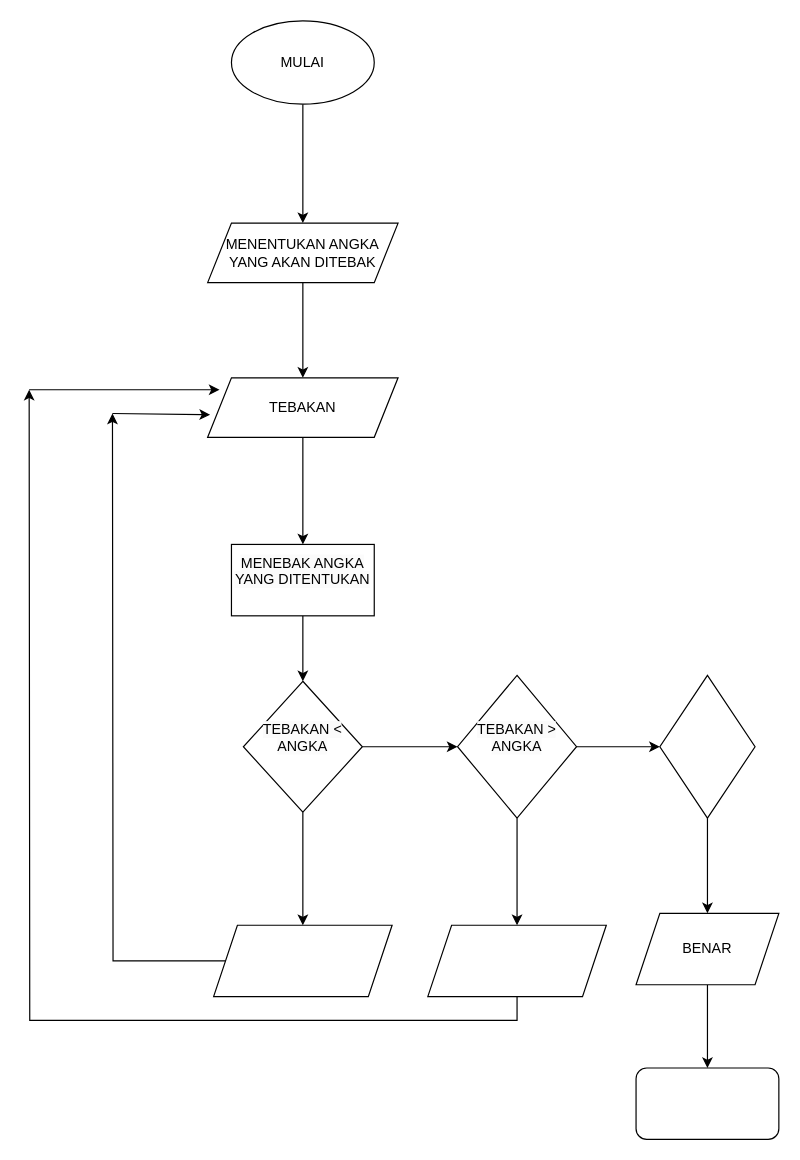
This 800x1160 diagram has some shape labels left out. The shapes that lost their labels are listed below. From the top down, each one's box as (x1, y1, x2, y2) in pixels, then its label:
(659, 674, 755, 818): TEBAKAN BENAR
(212, 924, 392, 997): ANGKA LEBIH KECIL
(427, 924, 606, 997): ANGKA LEBIH BESAR
(635, 1067, 779, 1139): SELESAI
